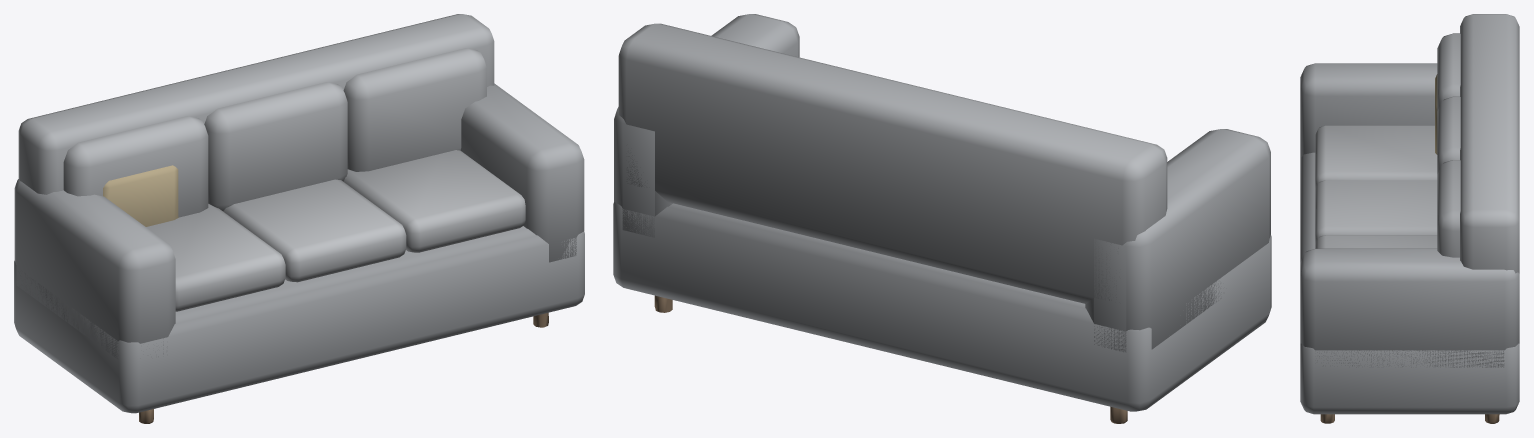
Rendered from fabric_sofa.glb.
3 views of the same model, side by side, from view 1: azimuth 30°, elevation 25°; view 2: azimuth 150°, elevation 25°; view 3: azimuth 270°, elevation 25° (orthographic). The views are drawn at different scales.
Visible parts, largest first — view 1: fabric_sofa; view 2: fabric_sofa; view 3: fabric_sofa.
Boxes of the visible parts, x1,y1,x2,y2 form: fabric_sofa: (14,14,584,423); fabric_sofa: (613,14,1271,423); fabric_sofa: (1300,14,1519,423).
Bounding box in the file's own units: 2 × 0.9751 × 0.88.
